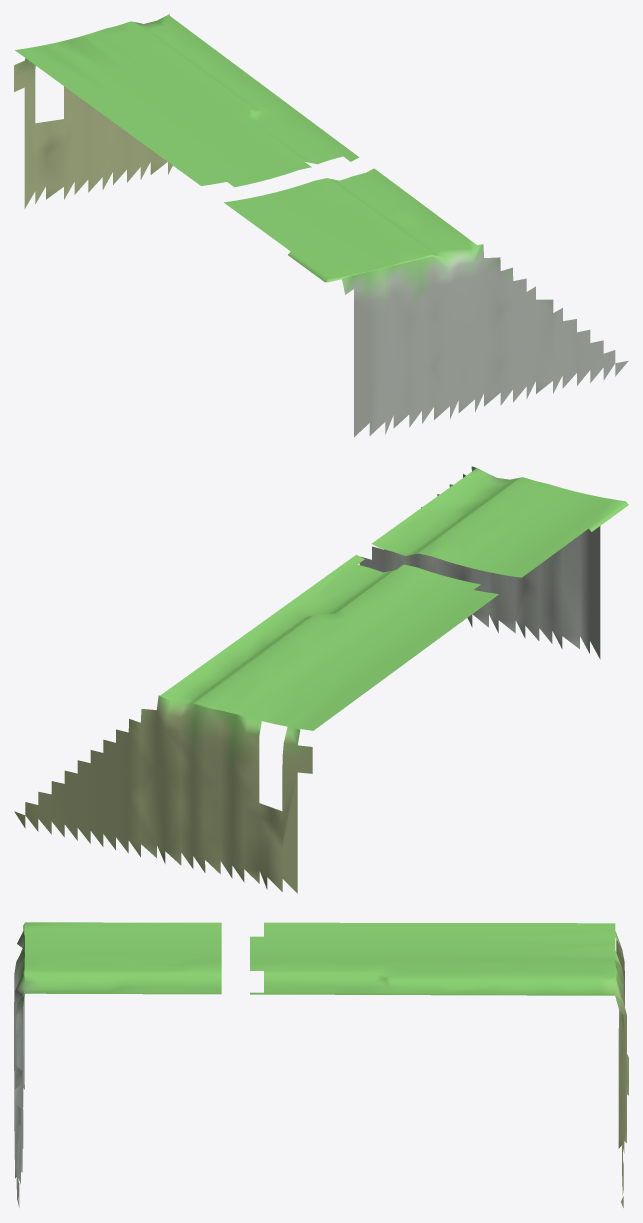
File: tile_7e4ccbd5fe0e_0_-1_1_0_lod1.glb
3 renders of one model, top to bottom at view 1: azimuth 30°, elevation 25°; view 2: azimuth 150°, elevation 25°; view 3: azimuth 270°, elevation 25°, orthographic. The views are drawn at different scales.
Bounding box in the file's own units: 1.86 × 0.9775 × 3.5.
